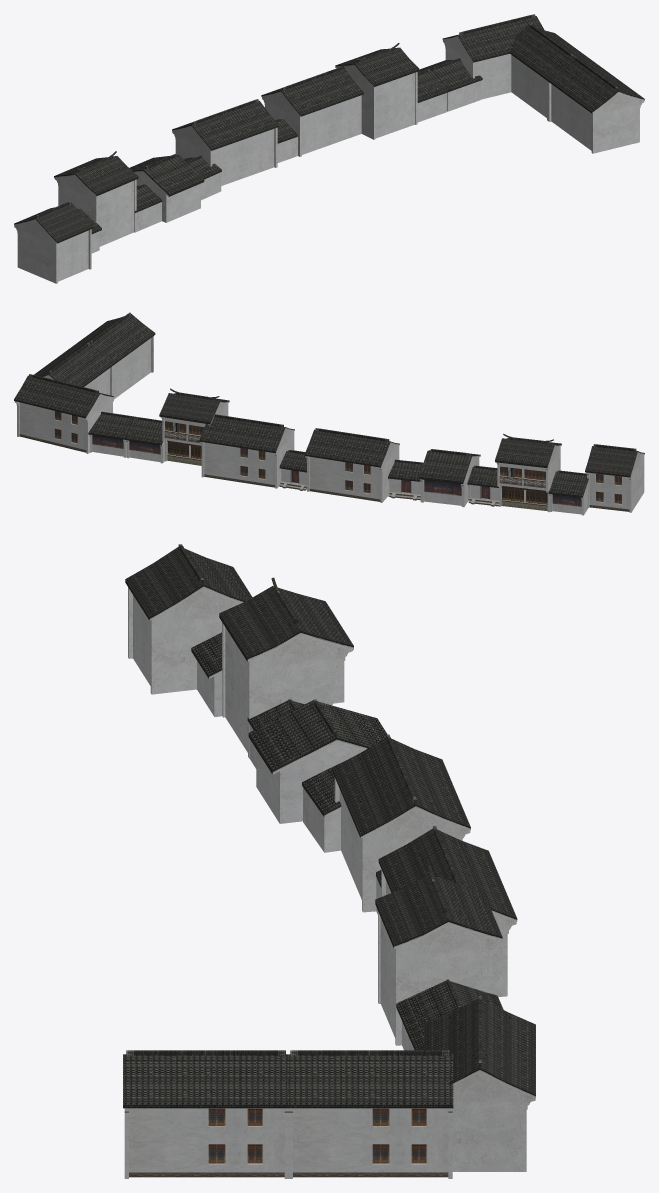
Rendered from Building_Street.FBX.
The picture shows the model from 3 angles, top to bottom: view 1: azimuth 30°, elevation 25°; view 2: azimuth 150°, elevation 25°; view 3: azimuth 270°, elevation 25°; orthographic projection. The views are drawn at different scales.
Parts seen in each view (by area): view 1: Buliding_street; view 2: Buliding_street; view 3: Buliding_street.
Part boxes in pixels (box(x1,y1,x2,y2)): Buliding_street: box(14, 14, 644, 283); Buliding_street: box(14, 312, 644, 515); Buliding_street: box(123, 544, 535, 1178).
Bounding box in the file's own units: 9390 × 3046 × 1081.
